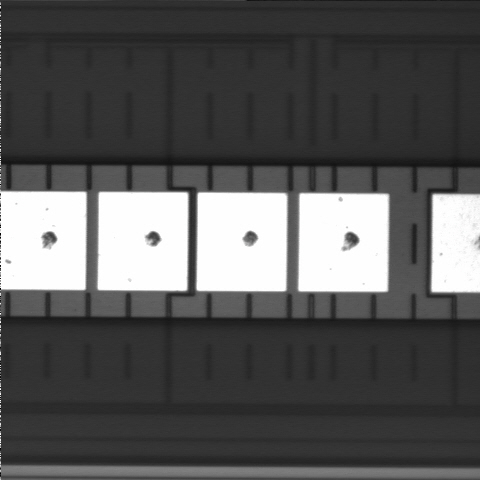pad: (298, 193, 389, 292), (98, 192, 188, 291), (197, 193, 287, 291)
